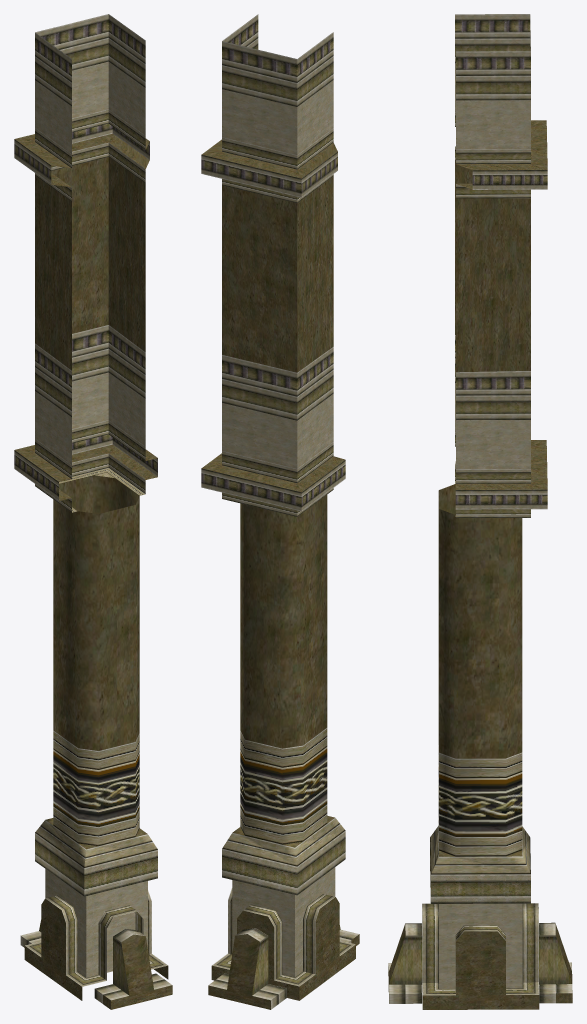
The model's file is CH09_SMAUG_PLAYSURFACE_LAIR59.fbx.
The picture shows the model from 3 angles, left to right: view 1: azimuth 30°, elevation 25°; view 2: azimuth 150°, elevation 25°; view 3: azimuth 270°, elevation 25°; orthographic projection. The views are drawn at different scales.
Parts seen in each view (by area): view 1: CH09_SMAUG_PLAYSURFACE_LAIR59; view 2: CH09_SMAUG_PLAYSURFACE_LAIR59; view 3: CH09_SMAUG_PLAYSURFACE_LAIR59.
Part boxes in pixels (<box>): CH09_SMAUG_PLAYSURFACE_LAIR59: <box>14,14,172,1009</box>; CH09_SMAUG_PLAYSURFACE_LAIR59: <box>201,14,359,1009</box>; CH09_SMAUG_PLAYSURFACE_LAIR59: <box>388,14,572,1009</box>.
Size of the model in its own units: 30421 by 271667 by 47459.
7 materials, 7 textured.
